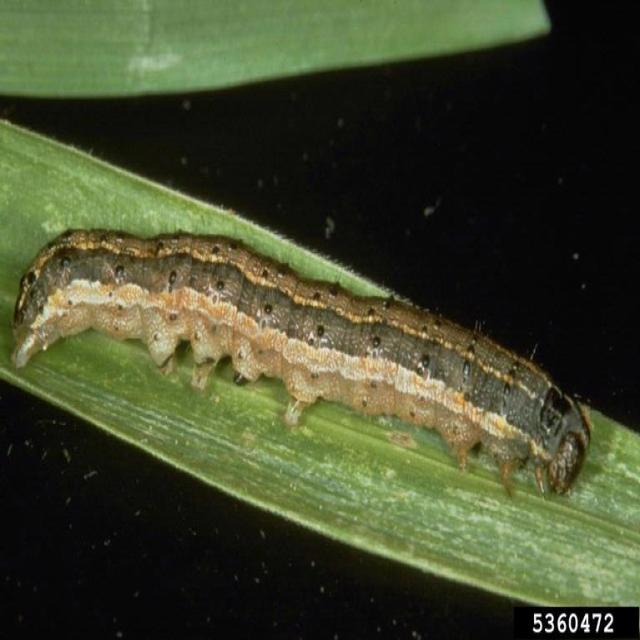worm: (11, 225, 593, 502)
